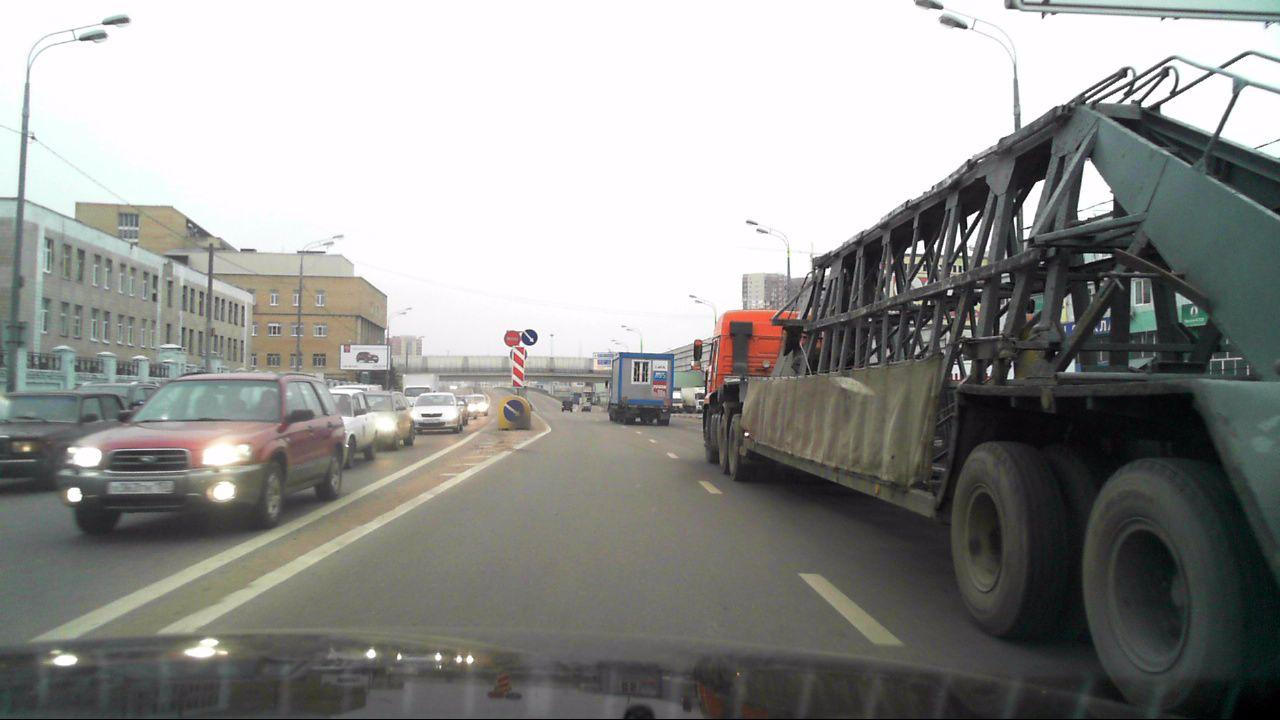road_sign: (504, 397, 525, 423), (512, 347, 525, 388), (522, 329, 538, 346)
